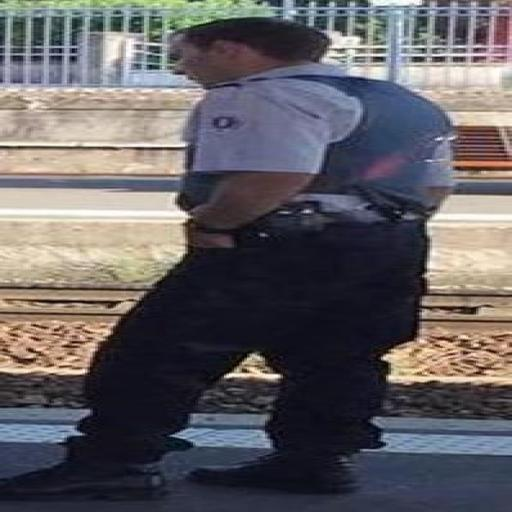person: (0, 18, 452, 499)
